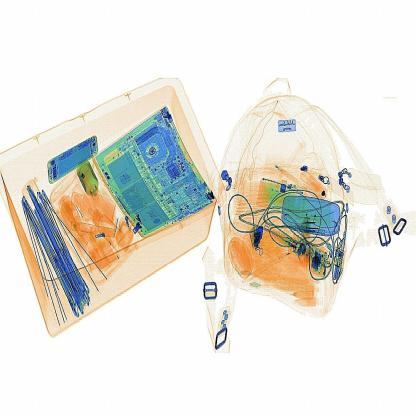wrench: (245, 217, 274, 258)
